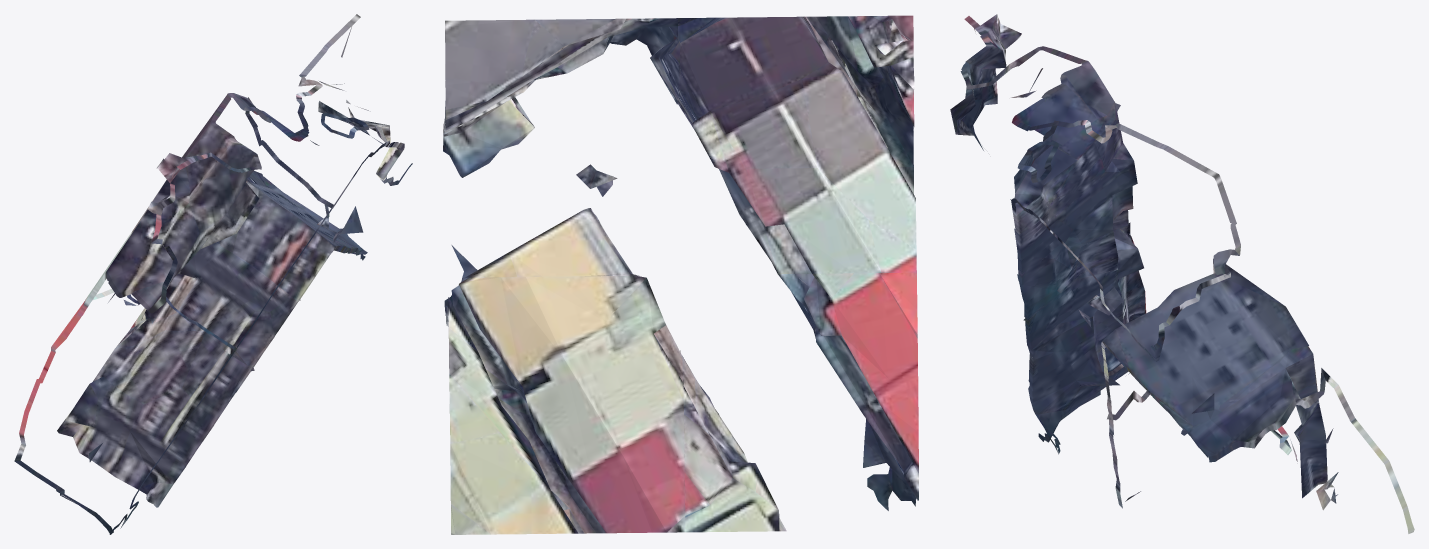
The picture shows the model from 3 angles, left to right: view 1: azimuth 30°, elevation 25°; view 2: azimuth 150°, elevation 25°; view 3: azimuth 270°, elevation 25°; orthographic projection. The views are drawn at different scales.
Bounding box in the file's own units: 40.59 × 39.77 × 34.99.
Materials: 2 (2 with a texture image).
